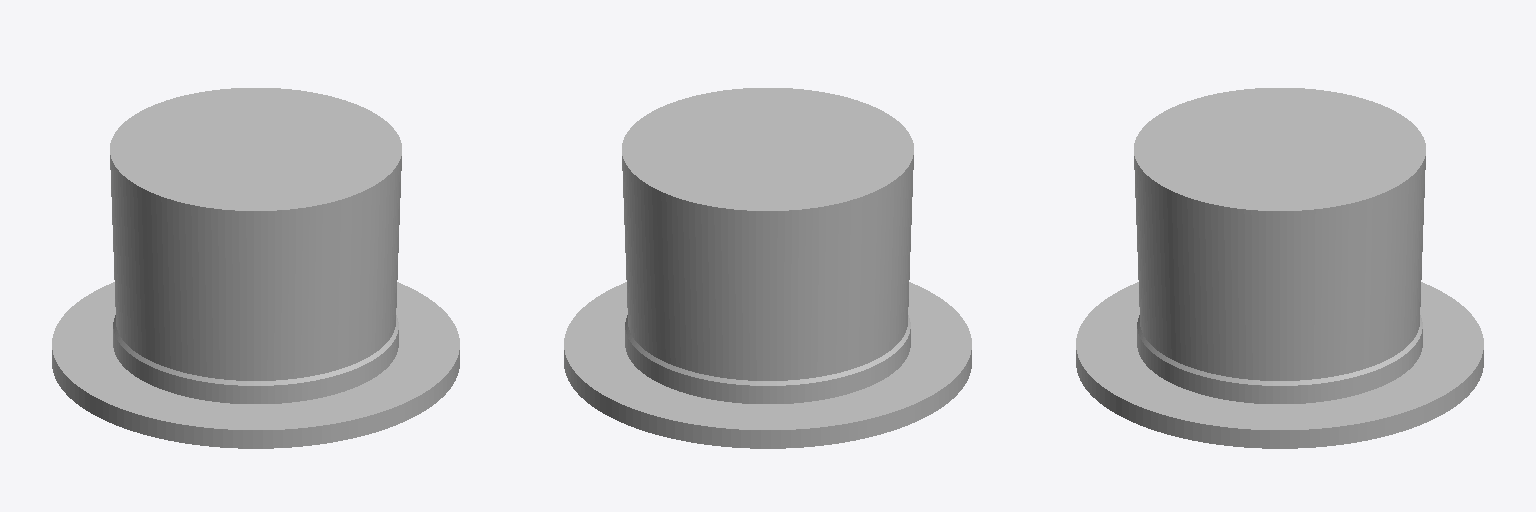
File: Hat.obj
3 renders of one model, left to right at view 1: azimuth 30°, elevation 25°; view 2: azimuth 150°, elevation 25°; view 3: azimuth 270°, elevation 25°, orthographic.
Parts seen in each view (by area): view 1: Circle; view 2: Circle; view 3: Circle.
Part boxes in pixels (x1,y1,x2,y2): Circle: (52,88,459,448); Circle: (564,88,971,448); Circle: (1076,88,1483,448).
Bounding box in the file's own units: 3 × 1.73 × 3.